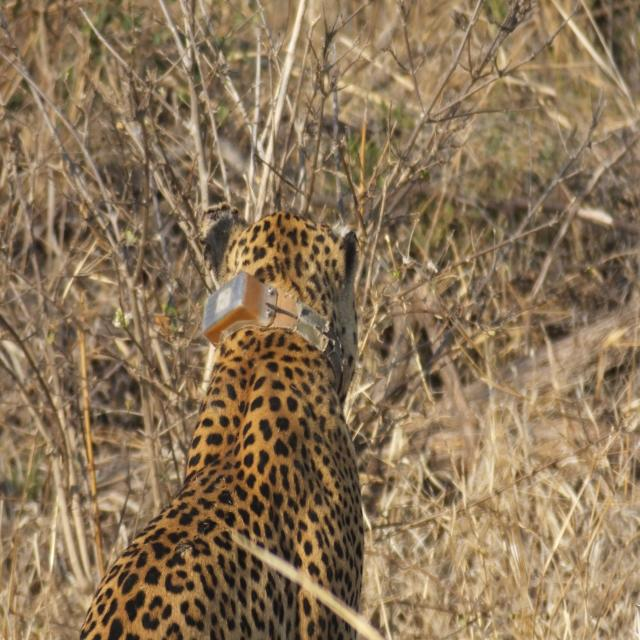Leopard: (38, 201, 392, 640)
